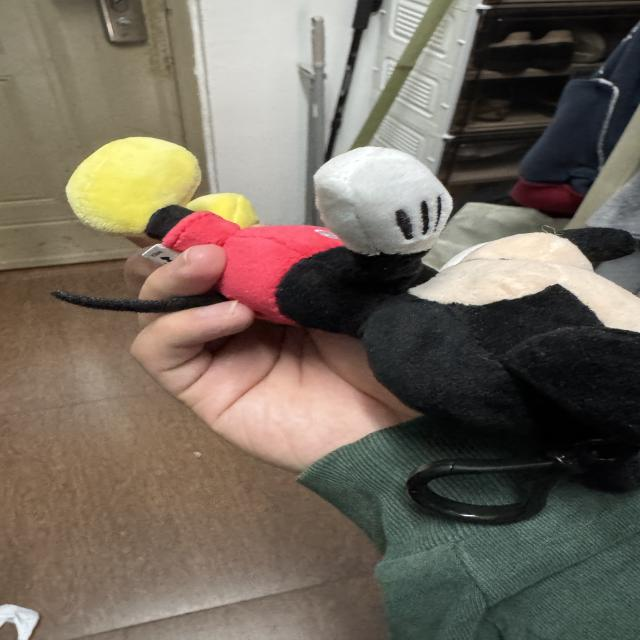mickey: (67, 138, 639, 490)
